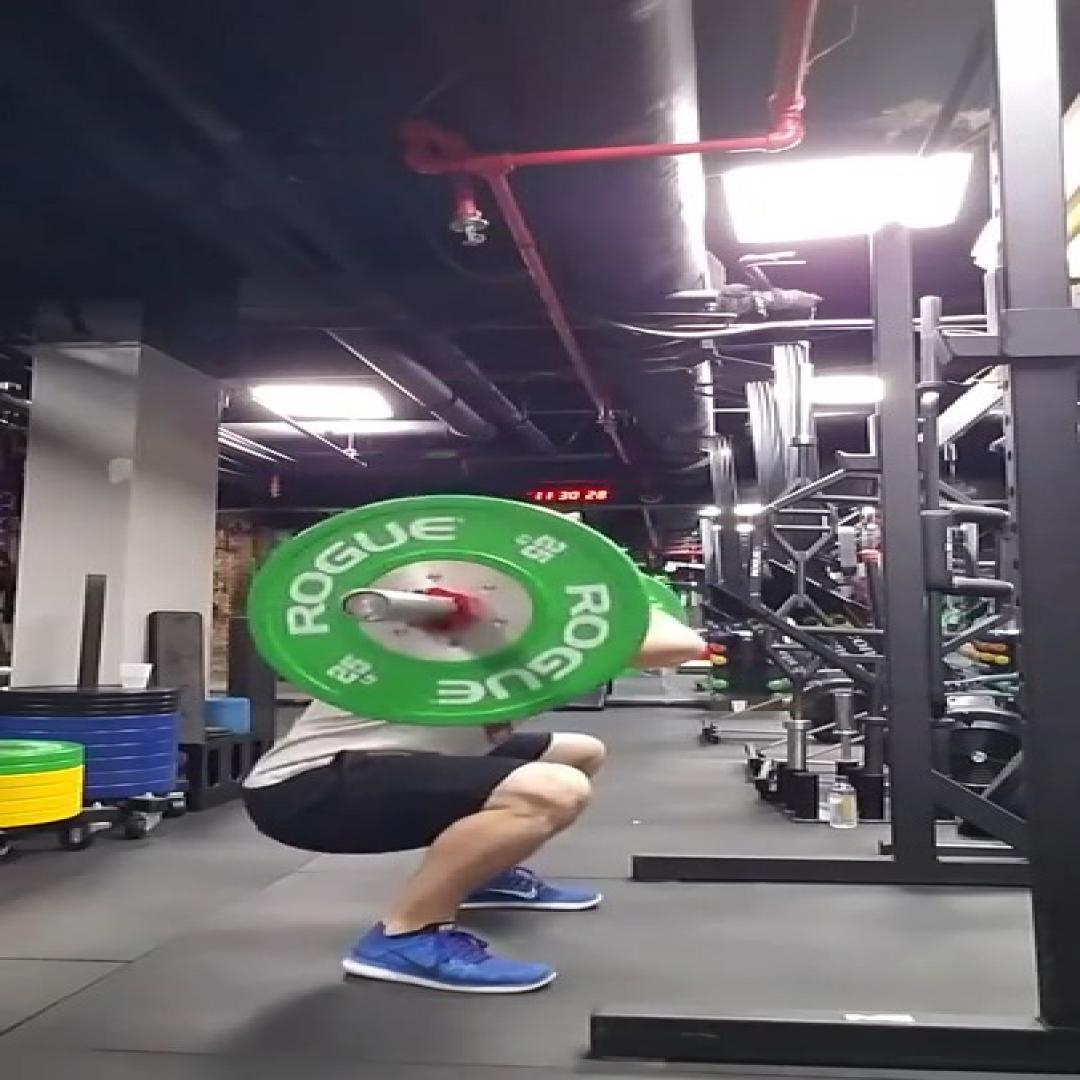Bar: (338, 586, 394, 623)
Barbell: (247, 495, 652, 727)
